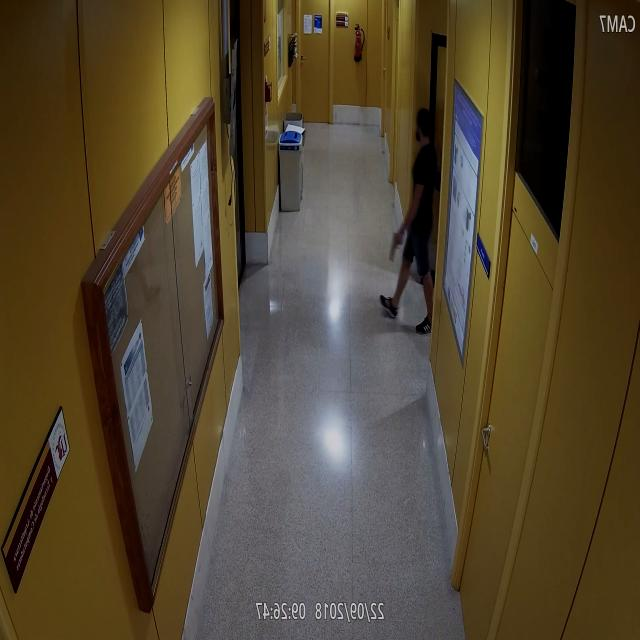pistol: (388, 229, 404, 261)
